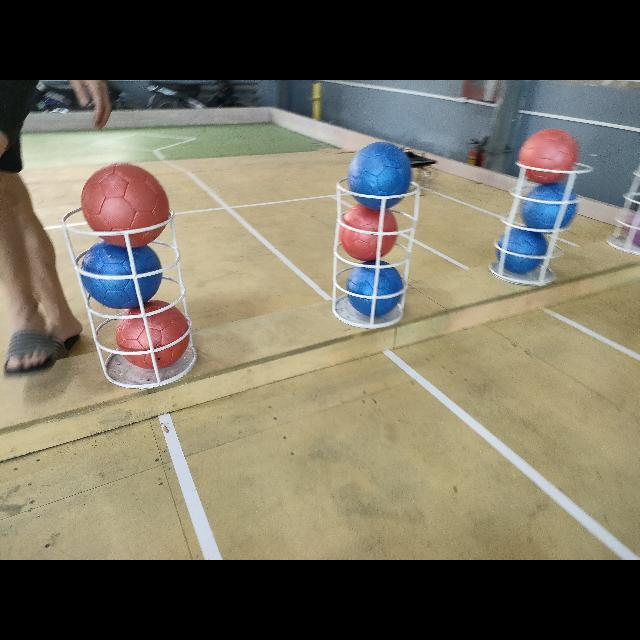B: (80, 243, 162, 309), (348, 140, 412, 206), (349, 260, 405, 318), (522, 182, 578, 232), (499, 226, 547, 280)
R: (81, 162, 171, 248), (115, 302, 191, 370), (342, 204, 398, 262), (520, 129, 576, 185)
